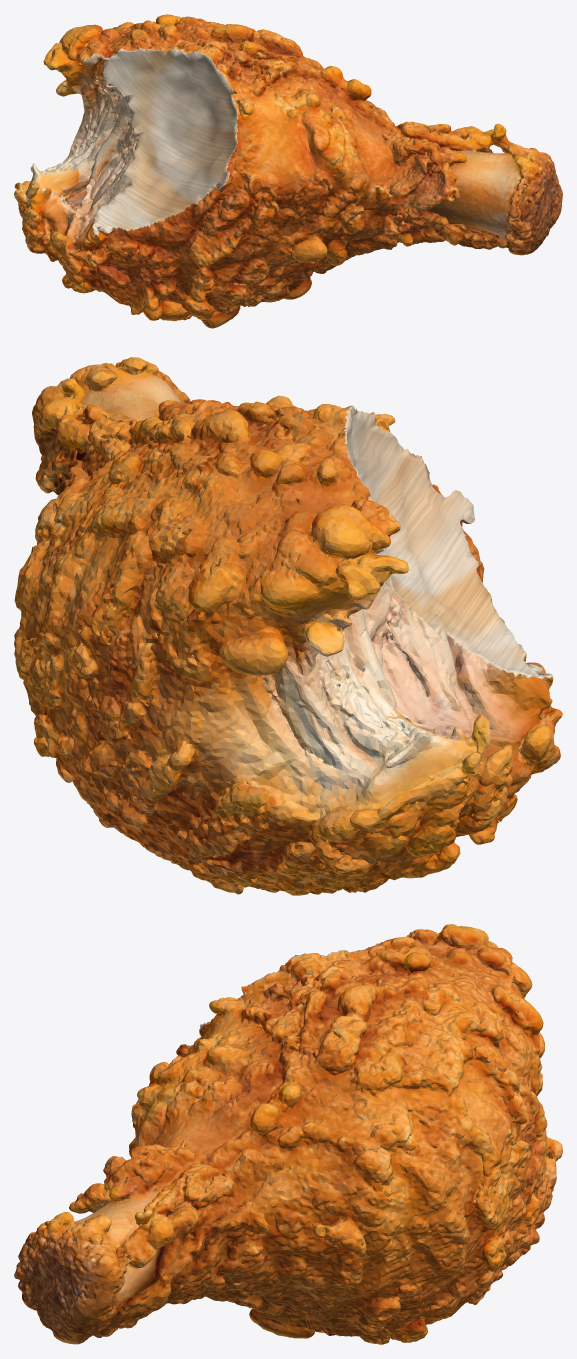
3 views of the same model, one above another, from view 1: azimuth 30°, elevation 25°; view 2: azimuth 150°, elevation 25°; view 3: azimuth 270°, elevation 25° (orthographic). The views are drawn at different scales.
Parts seen in each view (by area): view 1: Lux3D_outer_surface, Local_closed_bite_surface; view 2: Lux3D_outer_surface, Local_closed_bite_surface; view 3: Lux3D_outer_surface.
Boxes of the visible parts, x1=… form: Lux3D_outer_surface: x1=14, y1=14, x2=562, y2=328; Local_closed_bite_surface: x1=82, y1=48, x2=238, y2=235; Lux3D_outer_surface: x1=14, y1=357, x2=562, y2=895; Local_closed_bite_surface: x1=342, y1=405, x2=553, y2=679; Lux3D_outer_surface: x1=14, y1=924, x2=562, y2=1344.
Bounding box in the file's own units: 0.1308 × 0.0865 × 0.1176.
2 materials, 2 textured.
